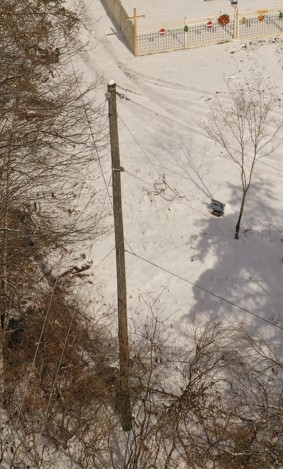pole: (95, 73, 132, 415)
